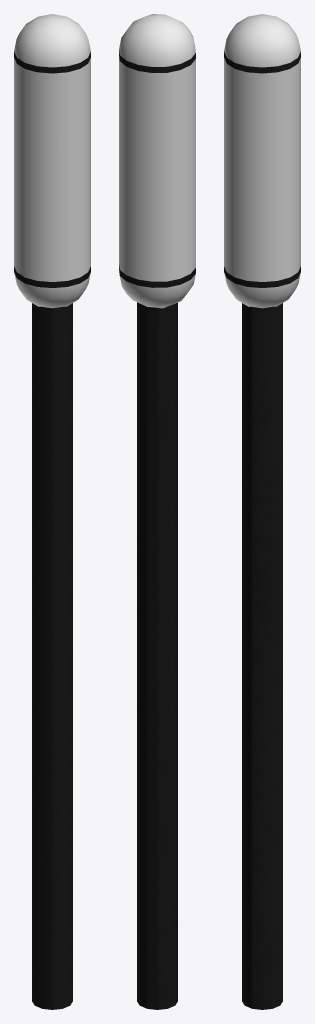
File: LeaverBig.fbx
The picture shows the model from 3 angles, left to right: view 1: azimuth 90°, elevation 25°; view 2: azimuth 150°, elevation 25°; view 3: azimuth 270°, elevation 25°; orthographic projection.
Visible parts, largest first — view 1: LeverBig; view 2: LeverBig; view 3: LeverBig.
Boxes of the visible parts, x1,y1,x2,y2 form: LeverBig: (14, 14, 90, 1009); LeverBig: (119, 14, 195, 1009); LeverBig: (224, 14, 300, 1009).
Size of the model in its own units: 0.0361 by 0.5089 by 0.0361.
